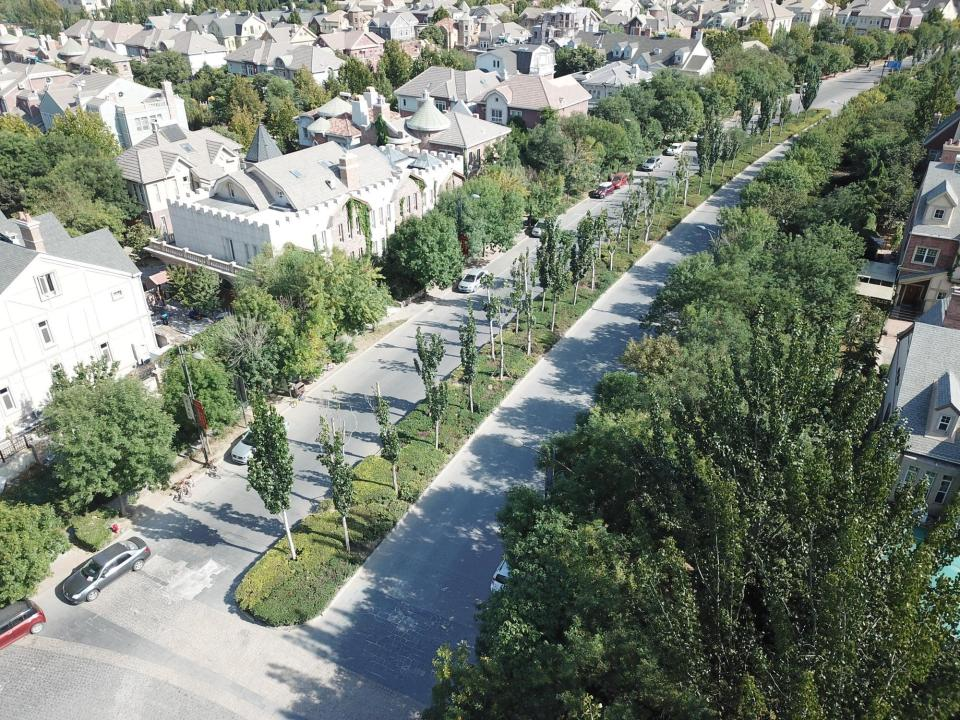car: (63, 535, 152, 604), (0, 597, 46, 656), (231, 418, 290, 464), (490, 548, 527, 596), (458, 269, 490, 293), (531, 218, 552, 236), (592, 181, 614, 198), (608, 172, 630, 189), (641, 155, 662, 171), (292, 391, 308, 407), (666, 143, 684, 156), (156, 298, 164, 316), (161, 313, 169, 326)
